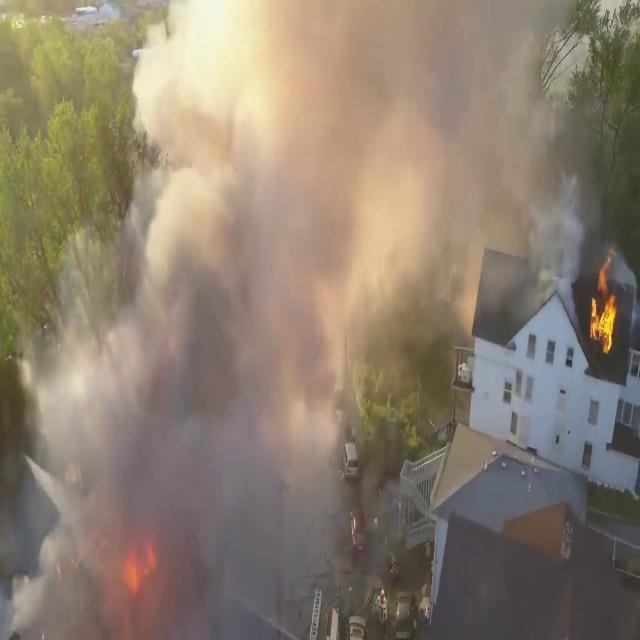Fire: (586, 254, 622, 354)
Smoke: (16, 0, 592, 628)
